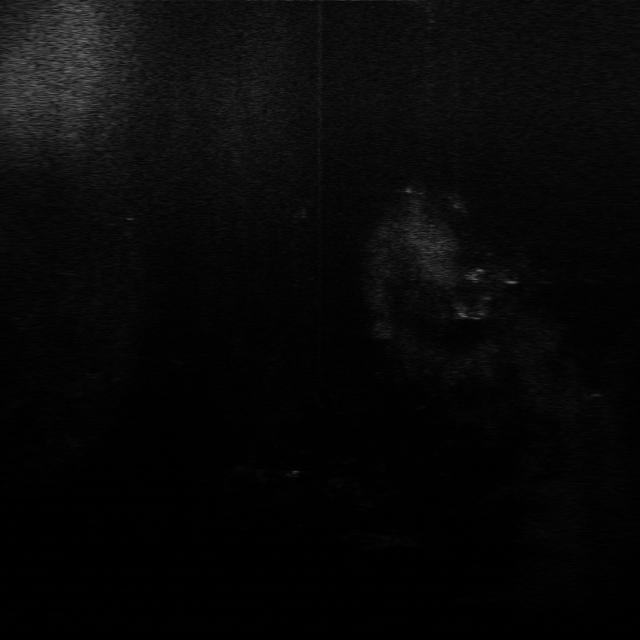rov: (464, 268, 484, 286)
